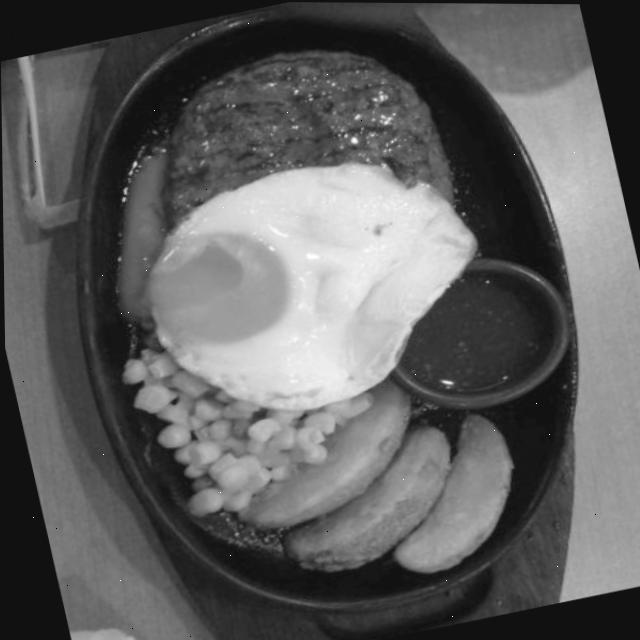炸货点心: (206, 352, 533, 614)
鸡蛋料理: (113, 128, 518, 451)
